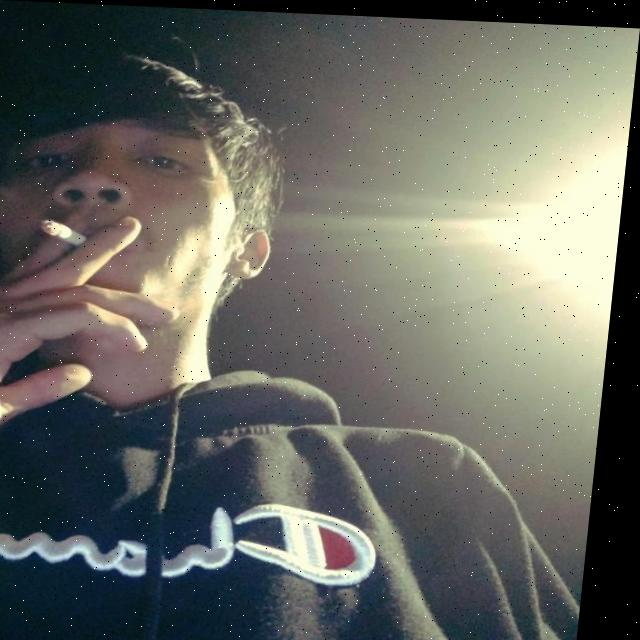cigarette: (45, 218, 92, 246)
